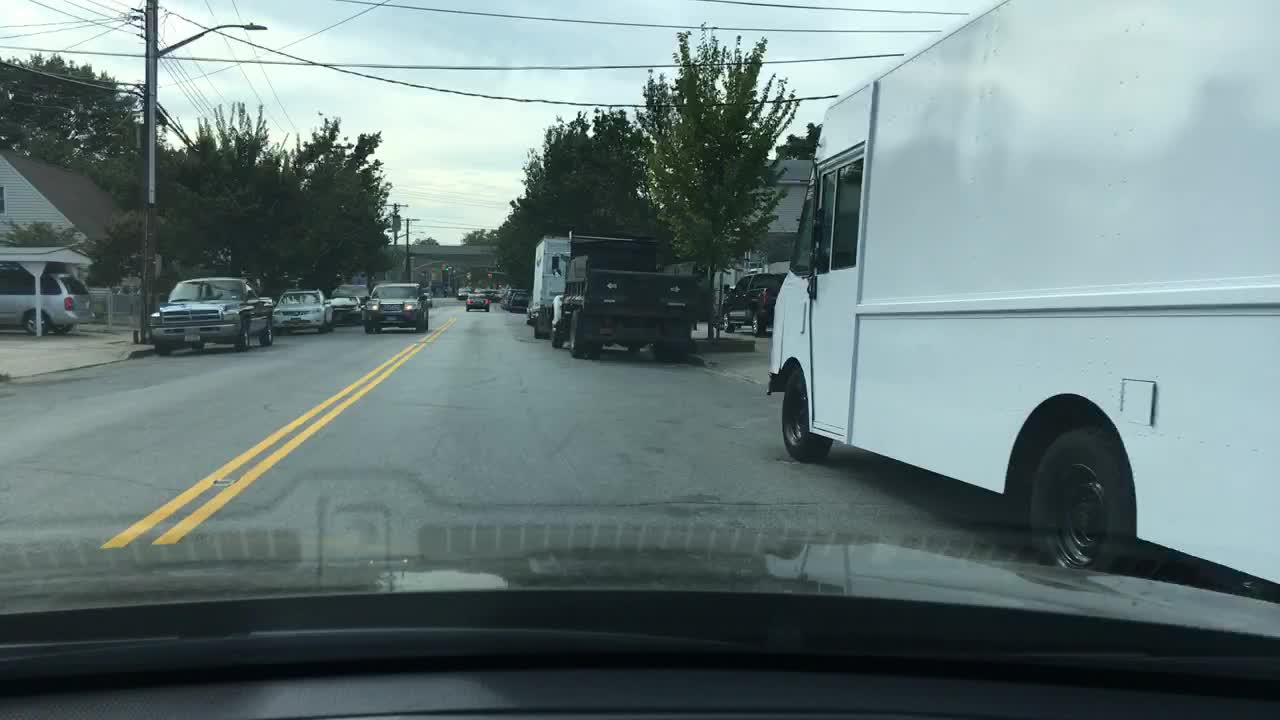car: (0, 269, 93, 335), (719, 272, 790, 336), (360, 282, 430, 333), (271, 286, 338, 335), (326, 294, 367, 324), (338, 284, 373, 306), (465, 290, 491, 313), (501, 285, 525, 309), (509, 291, 530, 312), (419, 284, 436, 306), (482, 286, 499, 300), (457, 286, 473, 300), (473, 285, 486, 295)
traffic light: (464, 268, 475, 281), (442, 260, 449, 272), (484, 268, 492, 278)
truck: (763, 4, 1276, 596), (548, 234, 711, 365), (148, 277, 277, 355), (526, 235, 574, 341)
